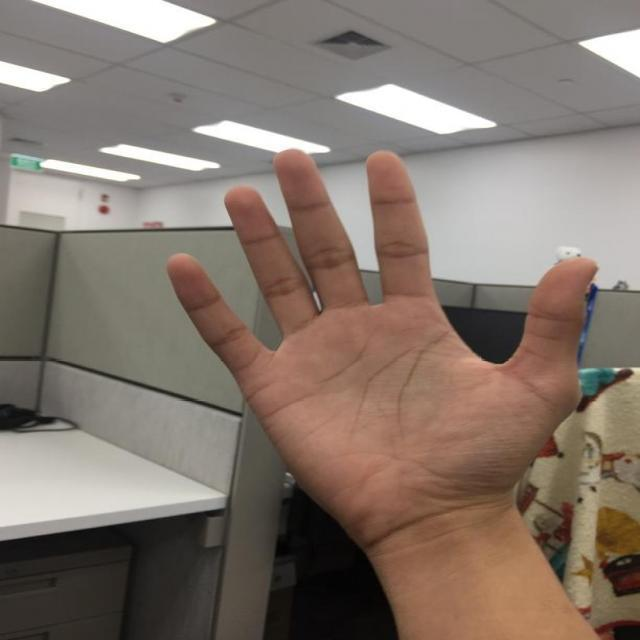no-gloves: (162, 148, 600, 536)
